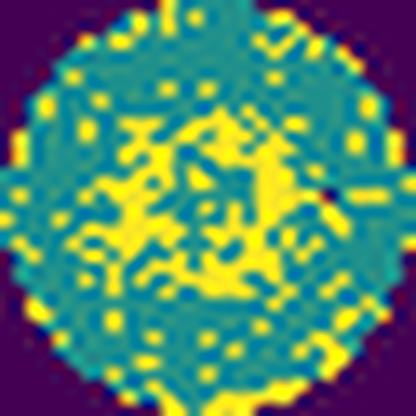Donut: (76, 76, 346, 328)
